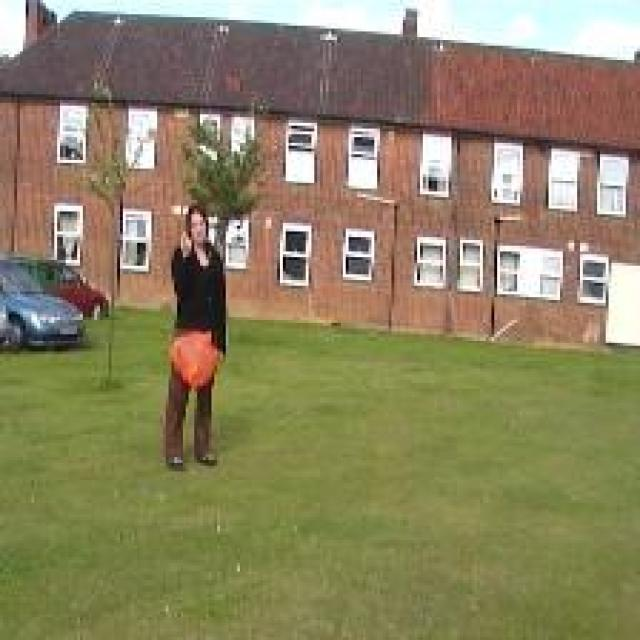other: (150, 321, 216, 393)
